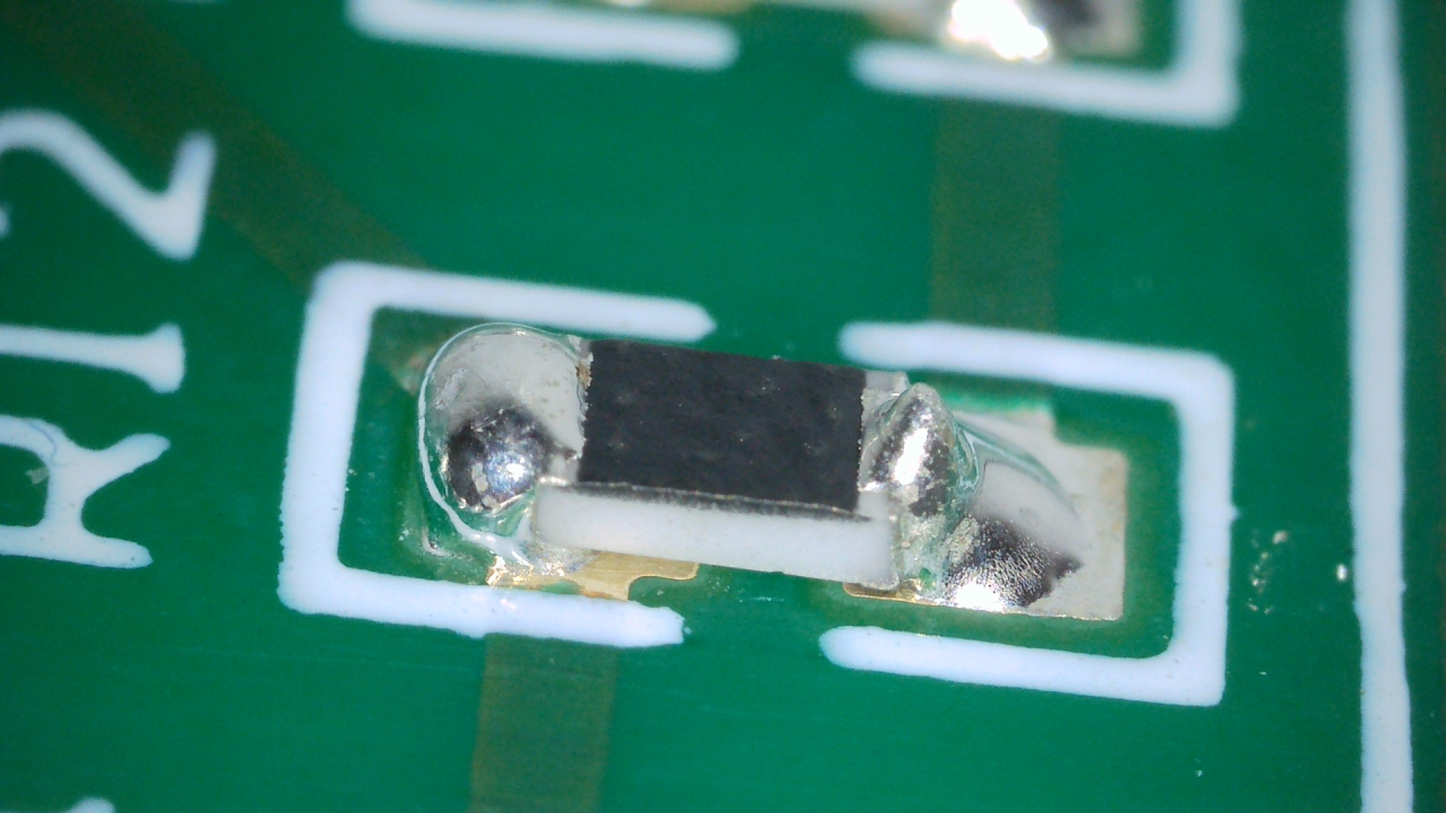NG: (857, 380, 1086, 608), (415, 323, 614, 576)
